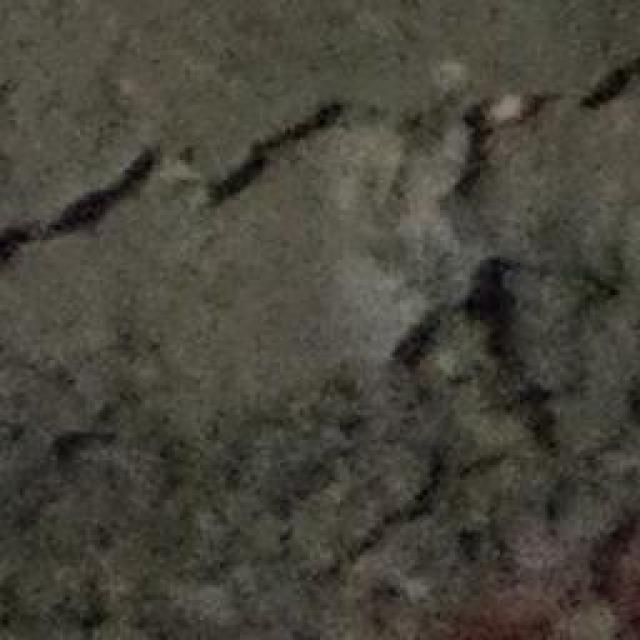Network: (3, 87, 640, 640)
